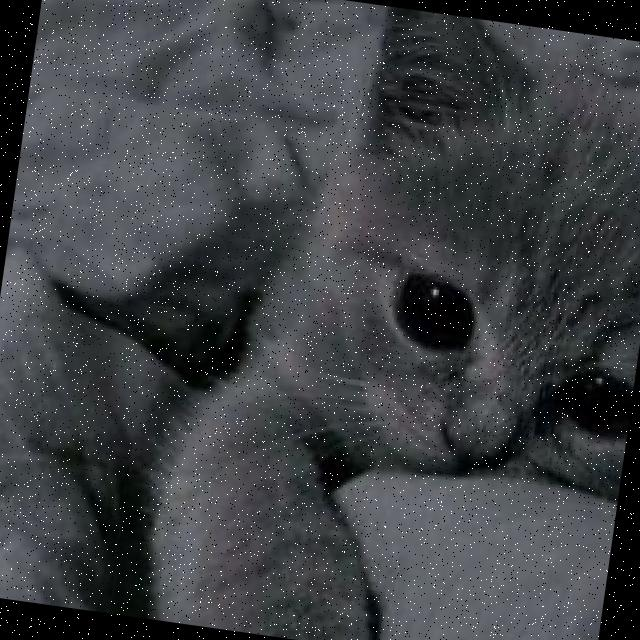Sad: (313, 182, 640, 526)
